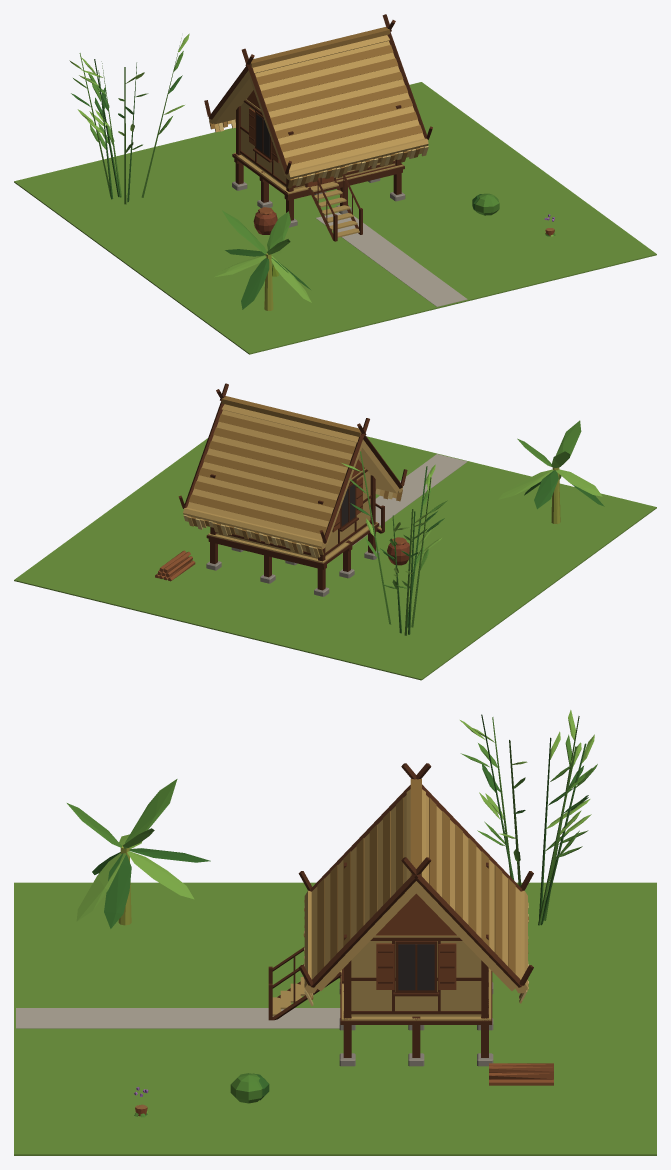
The model's file is home_1.glb.
3 renders of one model, top to bottom at view 1: azimuth 30°, elevation 25°; view 2: azimuth 150°, elevation 25°; view 3: azimuth 270°, elevation 25°, orthographic. The views are drawn at different scales.
Visible parts, largest first — view 1: body; view 2: body, windows; view 3: body, windows.
Part boxes in pixels (left/top/right/bottom): body: left=14, top=14, right=656, bottom=354; body: left=14, top=383, right=656, bottom=680; windows: left=341, top=484, right=355, bottom=526; body: left=14, top=710, right=656, bottom=1155; windows: left=398, top=944, right=434, bottom=990.
Size of the model in its own units: 15.9 by 6.22 by 15.9.
